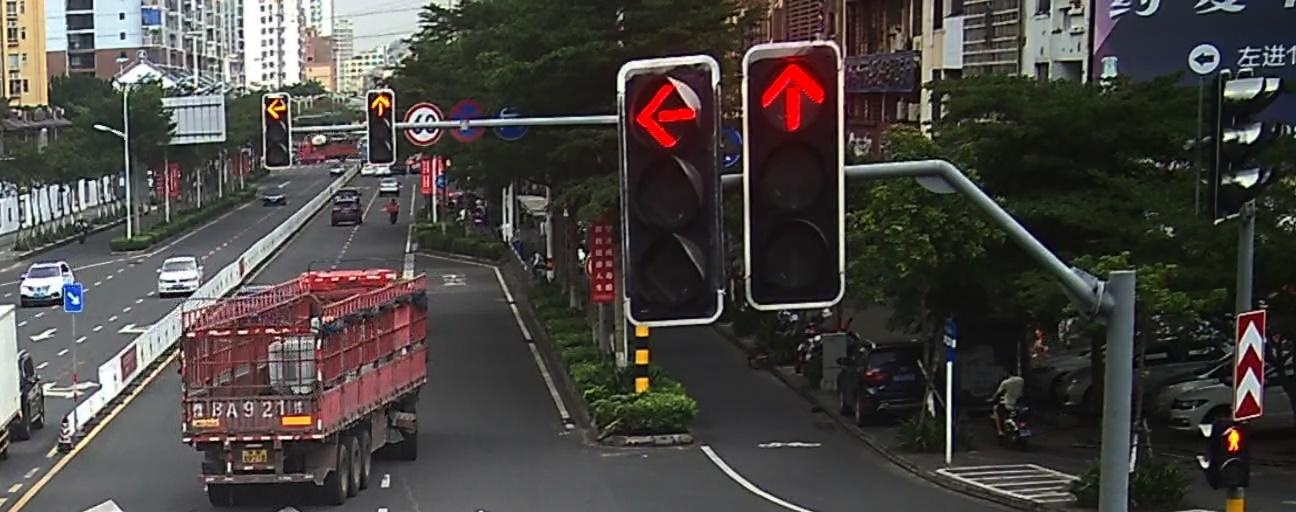redleft: (632, 81, 699, 151), (264, 96, 288, 120)
redpeople: (1222, 423, 1244, 455)
redstraight: (757, 59, 829, 133), (368, 92, 391, 117)
